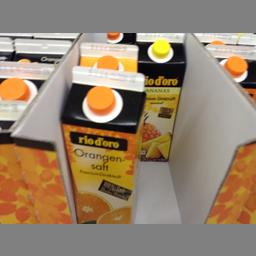juice: (60, 65, 146, 222), (135, 31, 186, 161)
